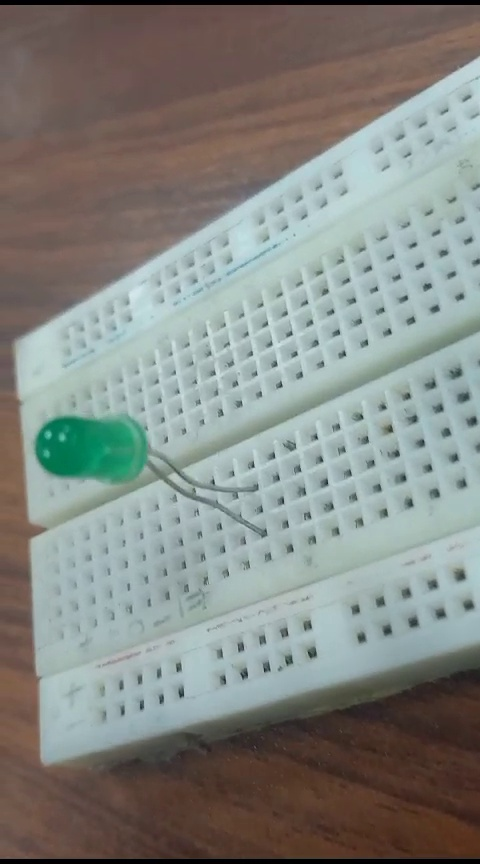LED: (39, 403, 259, 536)
